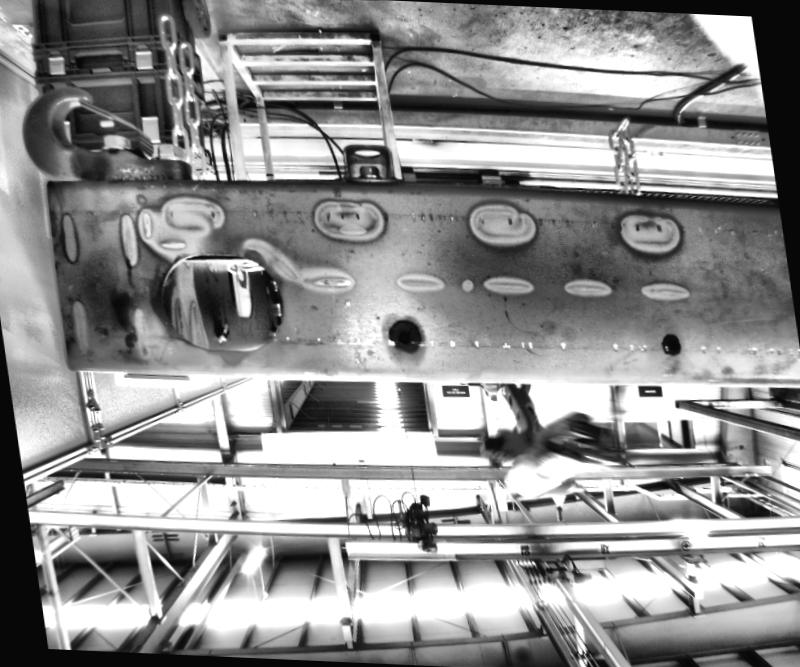bolt: (354, 162, 382, 181)
bracket: (317, 132, 413, 187)
hole: (145, 248, 293, 358), (394, 329, 416, 349), (666, 338, 680, 352)
